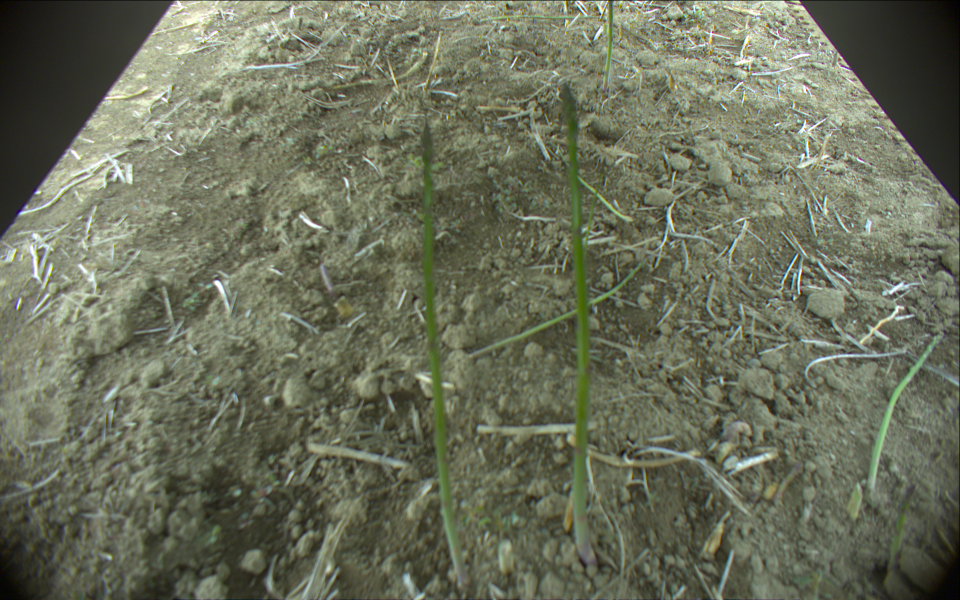aspa: (419, 119, 473, 587), (557, 83, 607, 568), (867, 321, 949, 489), (479, 12, 602, 21), (603, 1, 615, 82), (844, 482, 866, 523)
